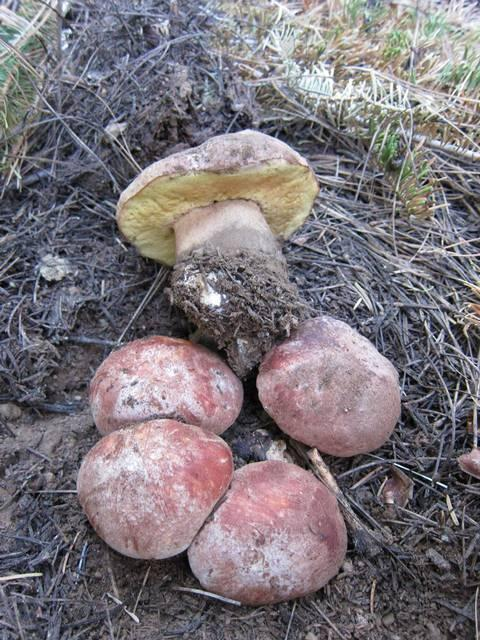Edible Mushroom: (114, 127, 320, 373), (186, 458, 347, 606), (75, 417, 233, 560), (255, 314, 401, 457), (87, 333, 244, 436)
